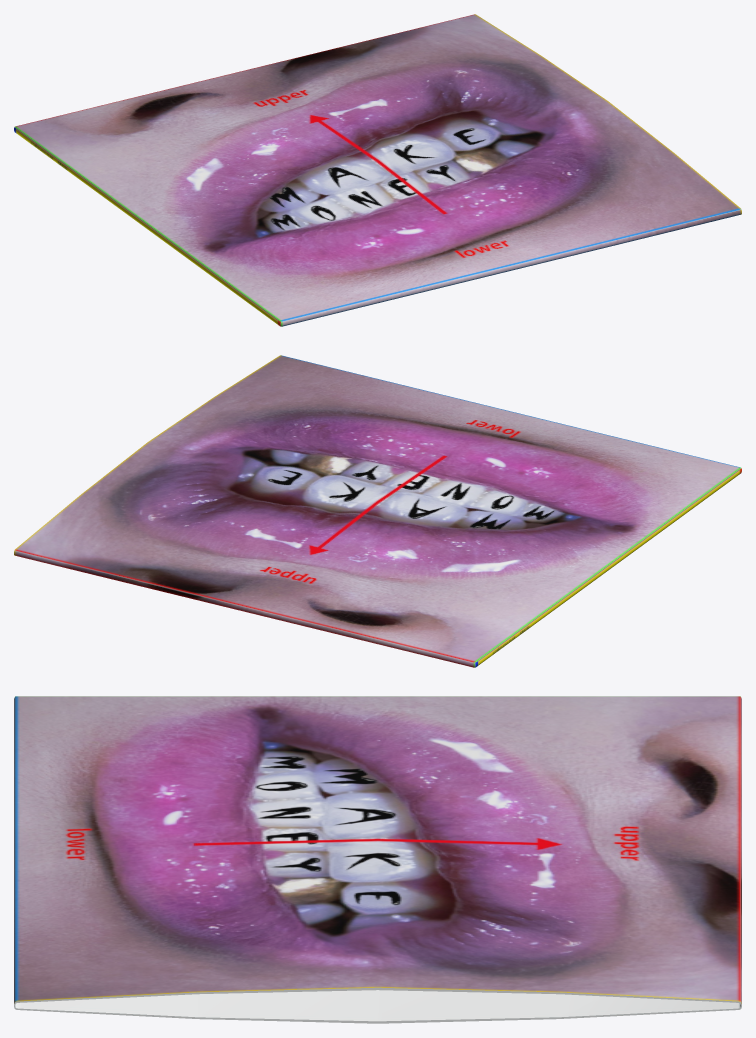
The model's file is sleeve_10_single.dae.
The picture shows the model from 3 angles, top to bottom: view 1: azimuth 30°, elevation 25°; view 2: azimuth 150°, elevation 25°; view 3: azimuth 270°, elevation 25°; orthographic projection. The views are drawn at different scales.
Visible parts, largest first — view 1: sleeve; view 2: sleeve; view 3: sleeve.
Boxes of the visible parts, x1,y1,x2,y2 form: sleeve: (14, 14, 741, 326); sleeve: (14, 355, 741, 667); sleeve: (14, 696, 741, 1023).
Size of the model in its own units: 26.4 by 1.45 by 26.5.
Materials: 1 (1 with a texture image).
